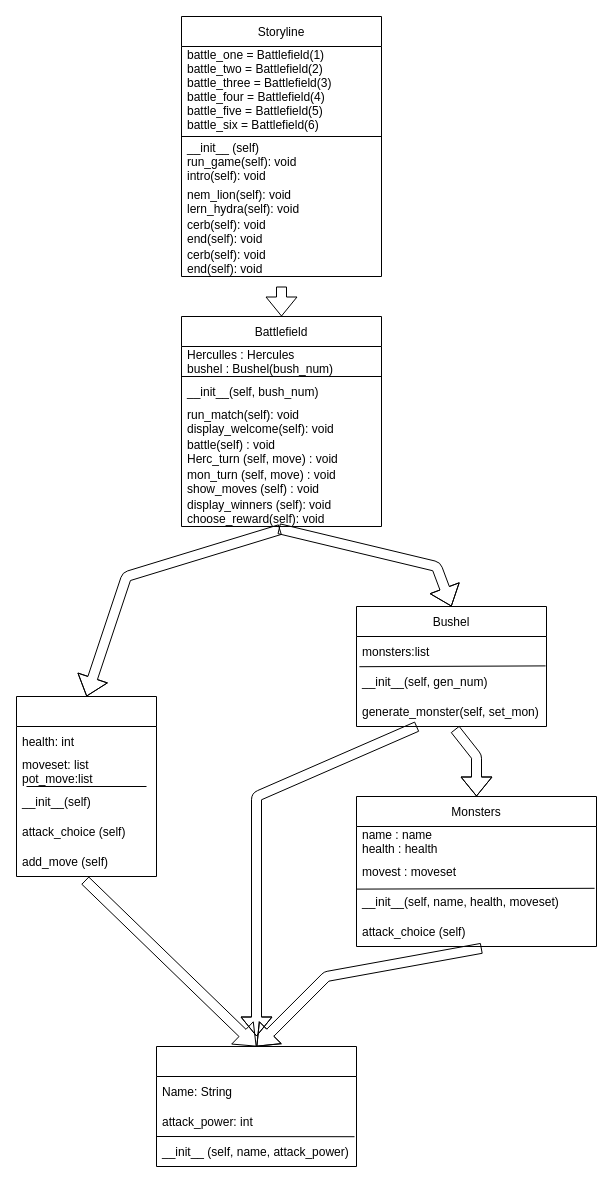
Image size: 613x1183. Some labels were removed from this diagram. The box of each missing label's shape, as (x1, y1, x2, y2) in pixels:
Hercules: (16, 696, 156, 876)
Moves: (156, 1046, 356, 1166)
